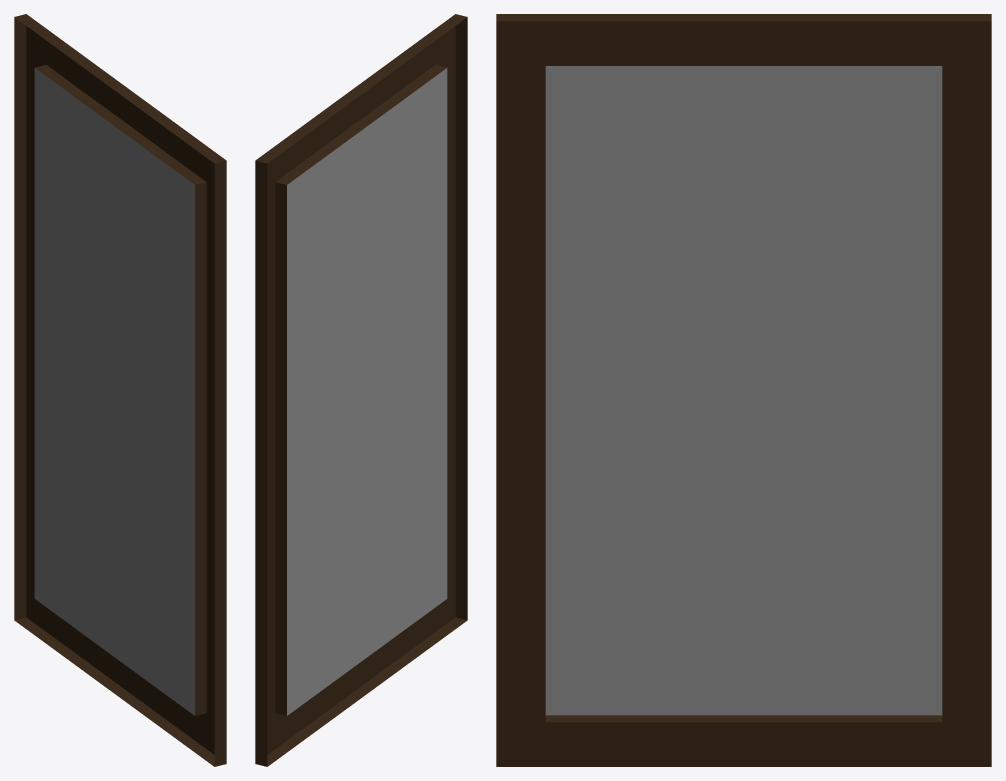
File: PictureFrame_2.FBX
3 renders of one model, left to right at view 1: azimuth 30°, elevation 25°; view 2: azimuth 150°, elevation 25°; view 3: azimuth 270°, elevation 25°, orthographic. The views are drawn at different scales.
Visible parts, largest first — view 1: Object001; view 2: Object001; view 3: Object001.
Part boxes in pixels (x1=…): Object001: x1=14, y1=14, x2=226, y2=766; Object001: x1=255, y1=14, x2=467, y2=766; Object001: x1=496, y1=14, x2=991, y2=766.
Bounding box in the file's own units: 0.5061 × 23.91 × 14.39.
